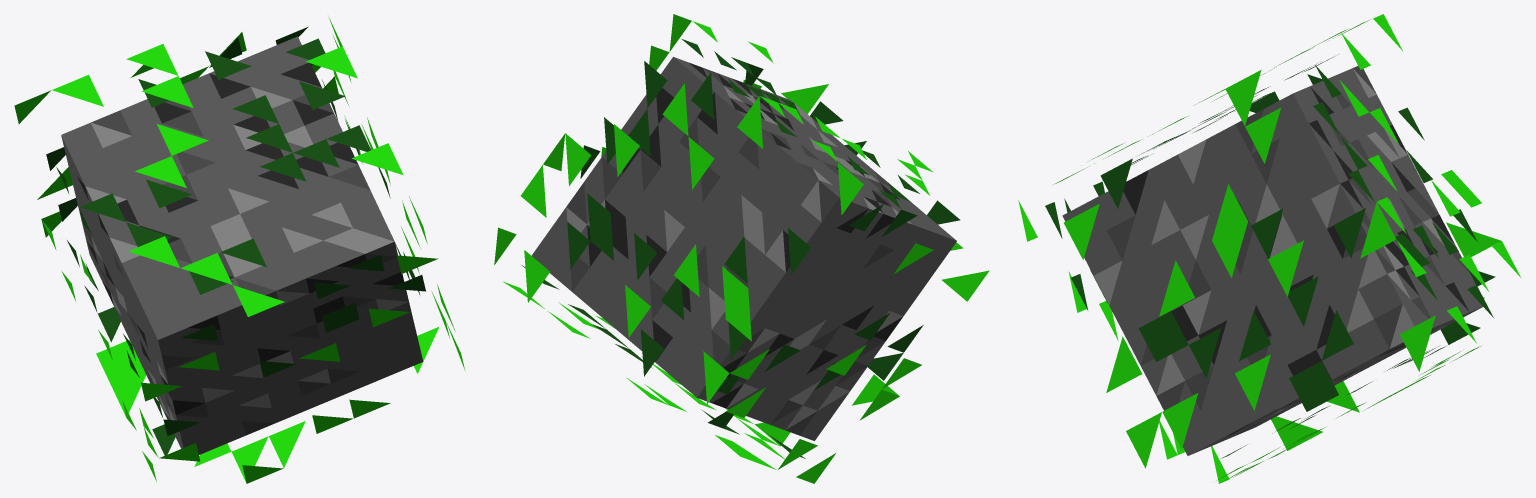
File: twisted_stone.fbx
3 views of the same model, side by side, from view 1: azimuth 30°, elevation 25°; view 2: azimuth 150°, elevation 25°; view 3: azimuth 270°, elevation 25° (orthographic). The views are drawn at different scales.
Parts seen in each view (by area): view 1: 큐브, 큐브.003, 큐브.004, 큐브.005, 큐브.002, 큐브.001; view 2: 큐브, 큐브.003, 큐브.004, 큐브.001, 큐브.002, 큐브.005; view 3: 큐브, 큐브.003, 큐브.004, 큐브.005, 큐브.001, 큐브.002.
Part boxes in pixels (<box>): 큐브: <box>61,36,423,454</box>; 큐브.003: <box>14,17,465,483</box>; 큐브.004: <box>46,26,425,455</box>; 큐브.005: <box>85,87,408,420</box>; 큐브.002: <box>77,62,404,414</box>; 큐브.001: <box>83,88,396,435</box>; 큐브: <box>531,57,956,440</box>; 큐브.003: <box>494,14,989,483</box>; 큐브.004: <box>522,39,960,458</box>; 큐브.001: <box>566,68,894,435</box>; 큐브.002: <box>587,62,903,408</box>; 큐브.005: <box>566,86,912,429</box>; 큐브: <box>1062,68,1482,455</box>; 큐브.003: <box>1018,14,1521,483</box>; 큐브.004: <box>1045,56,1495,458</box>; 큐브.005: <box>1094,69,1446,419</box>; 큐브.001: <box>1107,66,1470,435</box>; 큐브.002: <box>1123,87,1468,436</box>.
Size of the model in its own units: 330 by 376 by 371.
